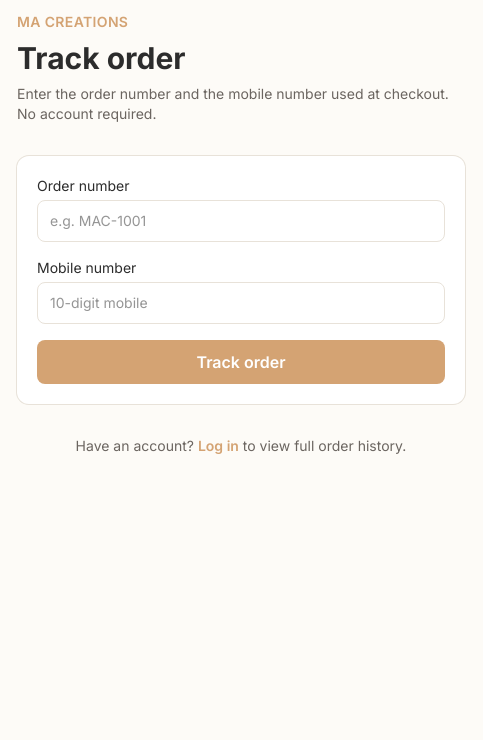
Test: Guest track order page › tracks order and shows result with tracking number
Type "MAC-G1" into the field labelled "Order number" at point(241, 221), box 37,200 -> 445,242
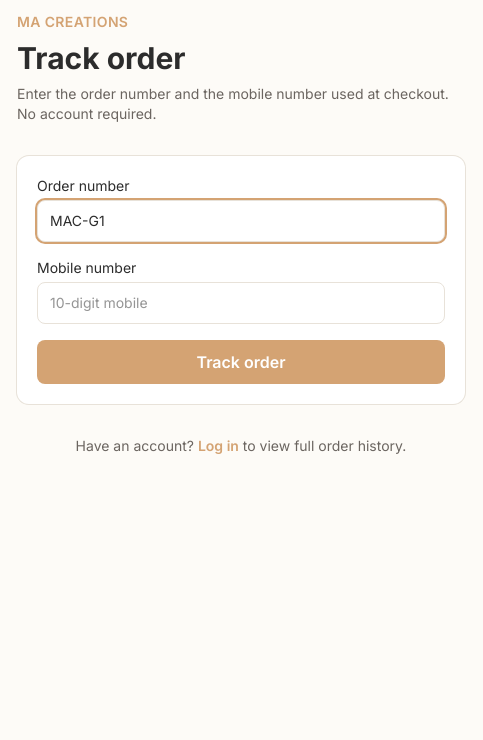
Type "9876543210" into the field labelled "Mobile number" at point(241, 303), box 37,282 -> 445,324
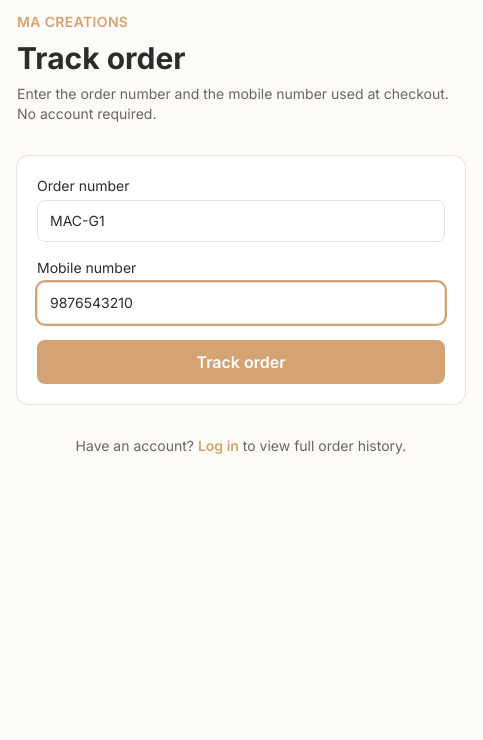
Click the button "Track order" at point(241, 362), box 37,340 -> 445,384
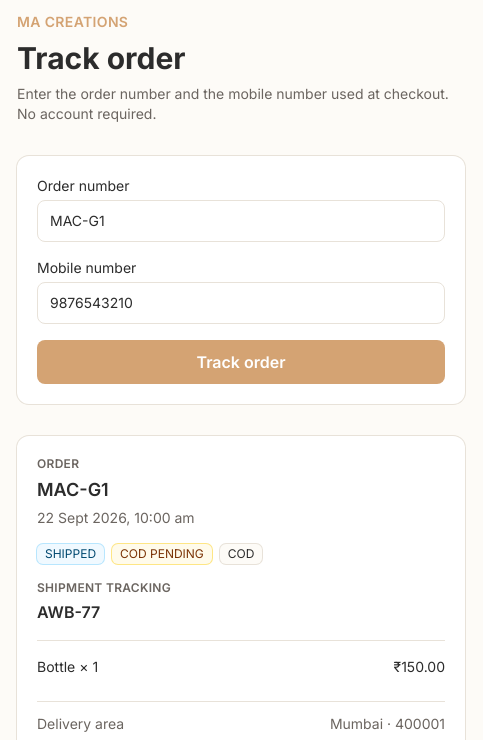
Check: the text "MAC-G1" is shown, box 37,479 -> 109,500
Check: the text "AWB-77" is shown, box 37,602 -> 100,622
